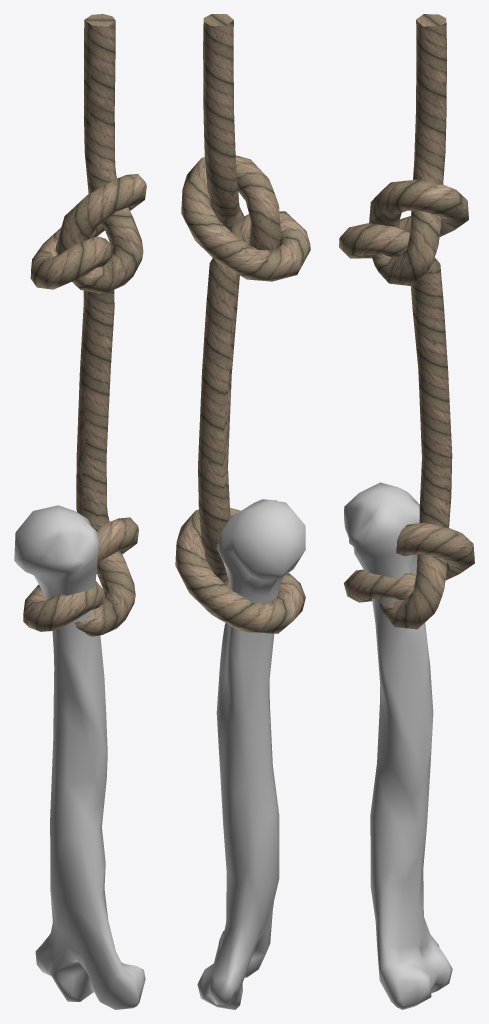
File: SM_Bone08.fbx
3 views of the same model, side by side, from view 1: azimuth 30°, elevation 25°; view 2: azimuth 150°, elevation 25°; view 3: azimuth 330°, elevation 25° (orthographic).
Visible parts, largest first — view 1: SM_Bone08_LOD0; view 2: SM_Bone08_LOD0; view 3: SM_Bone08_LOD0.
Boxes of the visible parts, <box> form: SM_Bone08_LOD0: <box>14,14,146,1009</box>; SM_Bone08_LOD0: <box>175,14,310,1009</box>; SM_Bone08_LOD0: <box>339,14,474,1009</box>.
Bounding box in the file's own units: 9.58 × 8.96 × 73.72.
